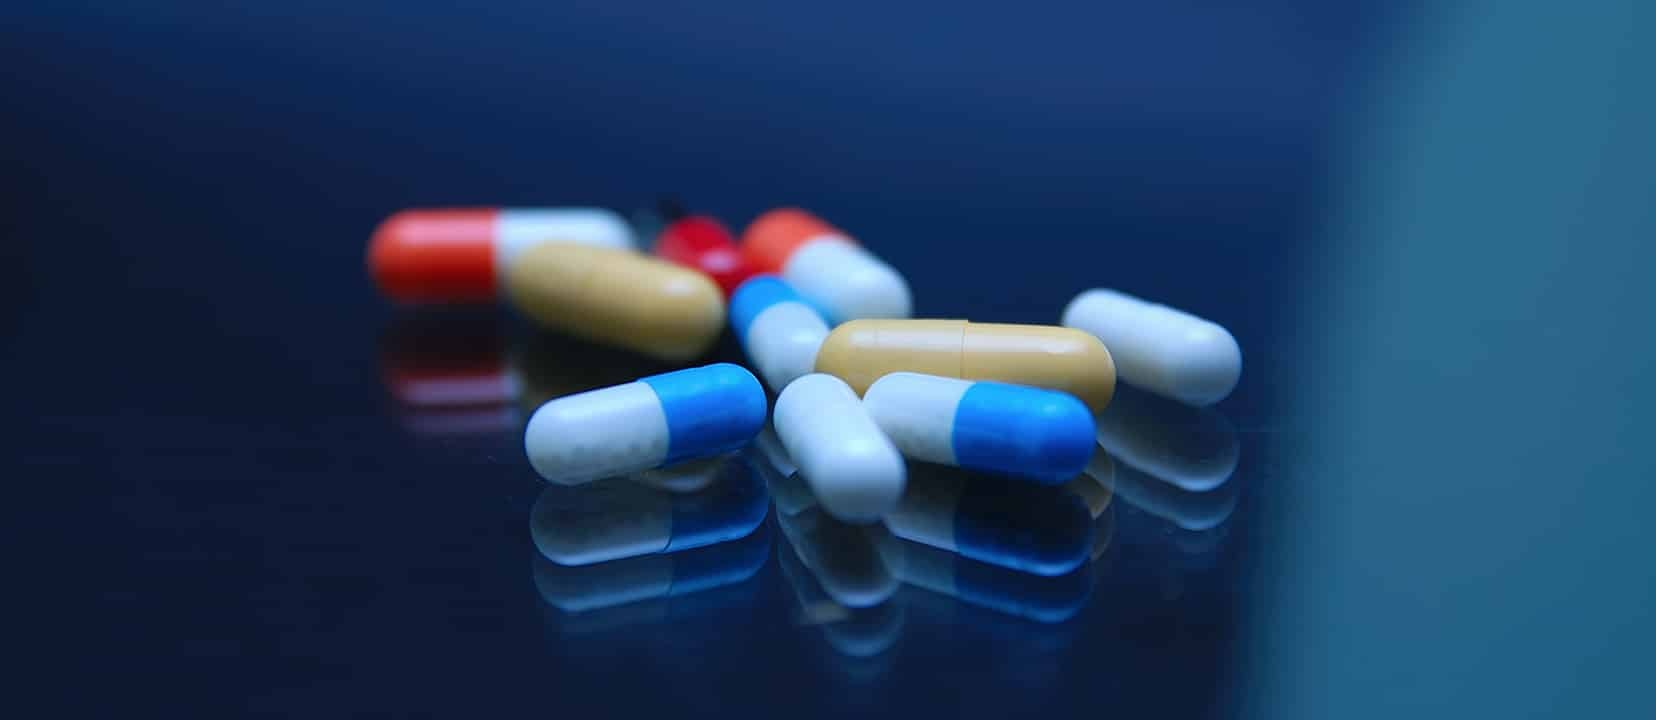pills: (512, 358, 764, 490), (838, 377, 1105, 470), (519, 231, 726, 340), (825, 322, 1110, 390), (1055, 286, 1262, 377)
